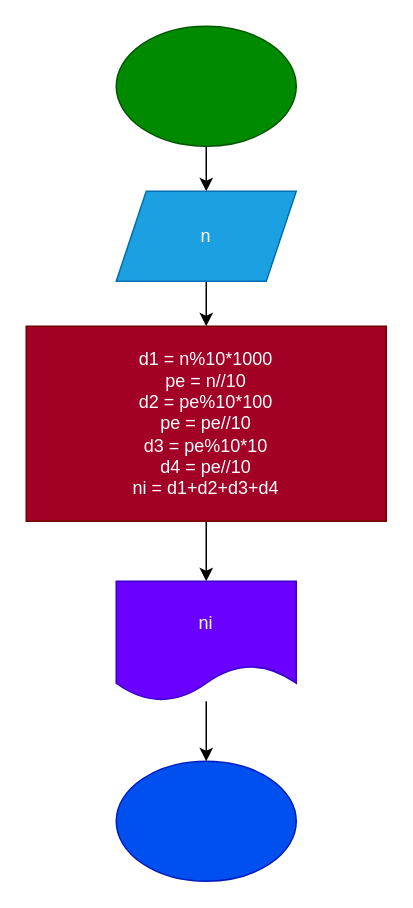
This 413x908 diagram has some shape labels left out. The box of each missing label's shape, as (x1, y1, x2, y2) in pixels:
FIN: (115, 760, 296, 881)
INICIO: (115, 25, 296, 146)
